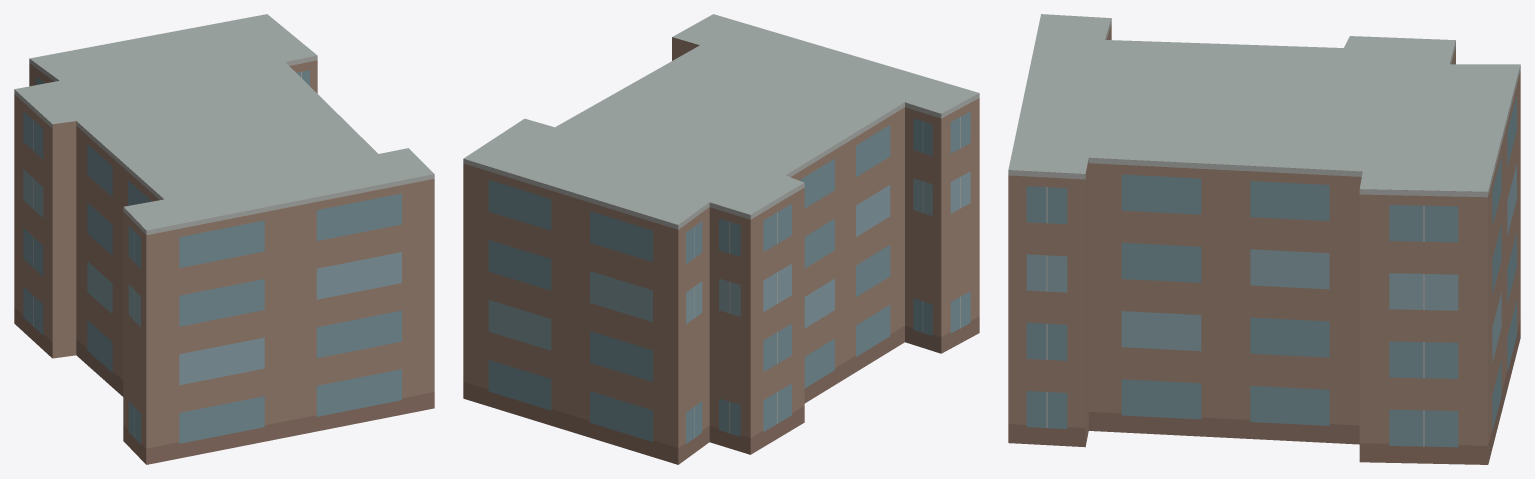
The model's file is survey-upis-32567231.glb.
3 renders of one model, left to right at view 1: azimuth 30°, elevation 25°; view 2: azimuth 150°, elevation 25°; view 3: azimuth 270°, elevation 25°, orthographic. The views are drawn at different scales.
Visible parts, largest first — view 1: survey-upis-32567231.tmp; view 2: survey-upis-32567231.tmp; view 3: survey-upis-32567231.tmp.
Boxes of the visible parts, x1=… form: survey-upis-32567231.tmp: x1=14, y1=14, x2=434, y2=464; survey-upis-32567231.tmp: x1=463, y1=14, x2=979, y2=464; survey-upis-32567231.tmp: x1=1008, y1=14, x2=1520, y2=464.
Size of the model in its own units: 17.04 by 12.2 by 20.75.
